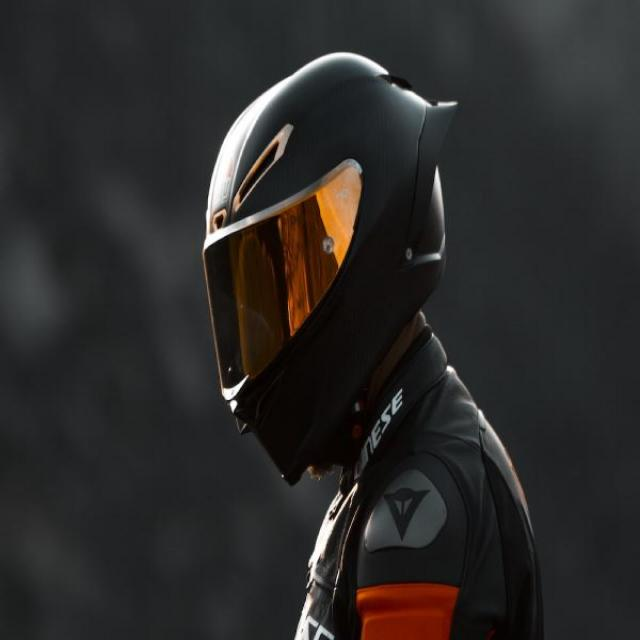Helmet: (197, 61, 461, 442)
